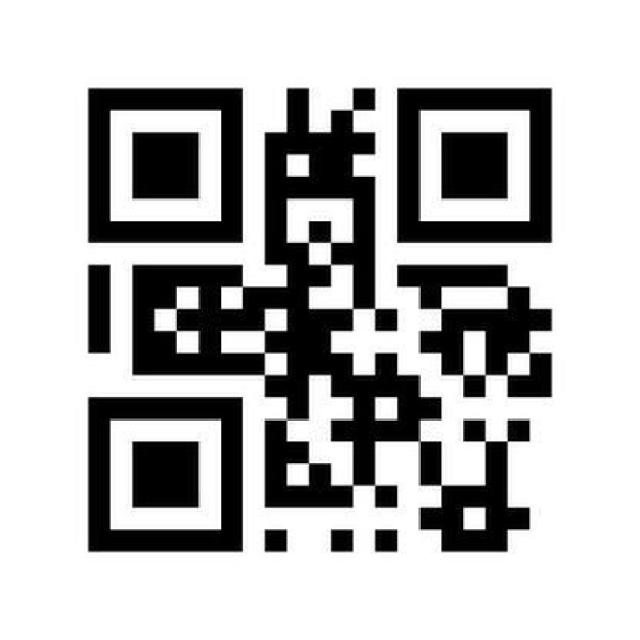QRCode: (79, 75, 557, 563)
